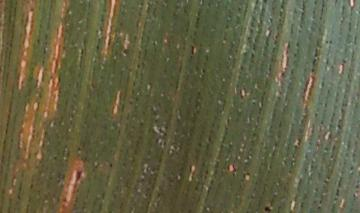tarspot: (74, 166, 85, 184), (262, 201, 275, 213), (121, 46, 130, 58)
